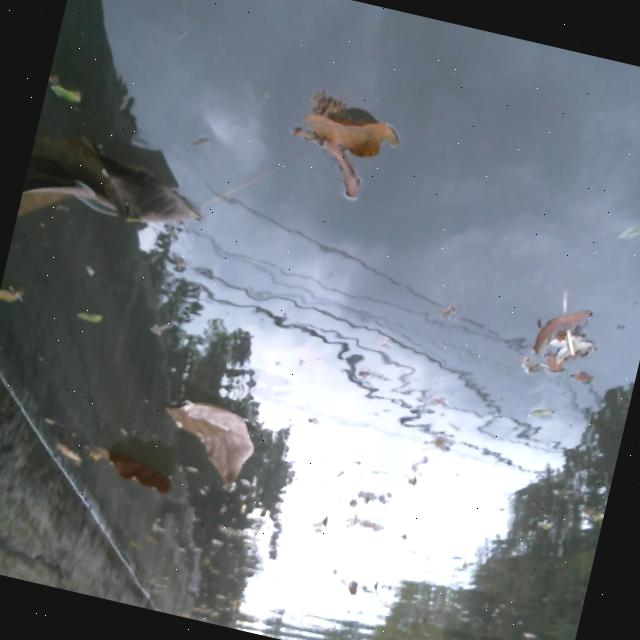Big-leaf: (13, 130, 197, 266), (265, 84, 408, 223), (139, 367, 267, 493), (86, 437, 185, 504)
Small-leaf: (509, 276, 602, 382), (36, 421, 97, 476), (41, 75, 94, 116), (52, 296, 105, 337), (0, 272, 29, 310)
